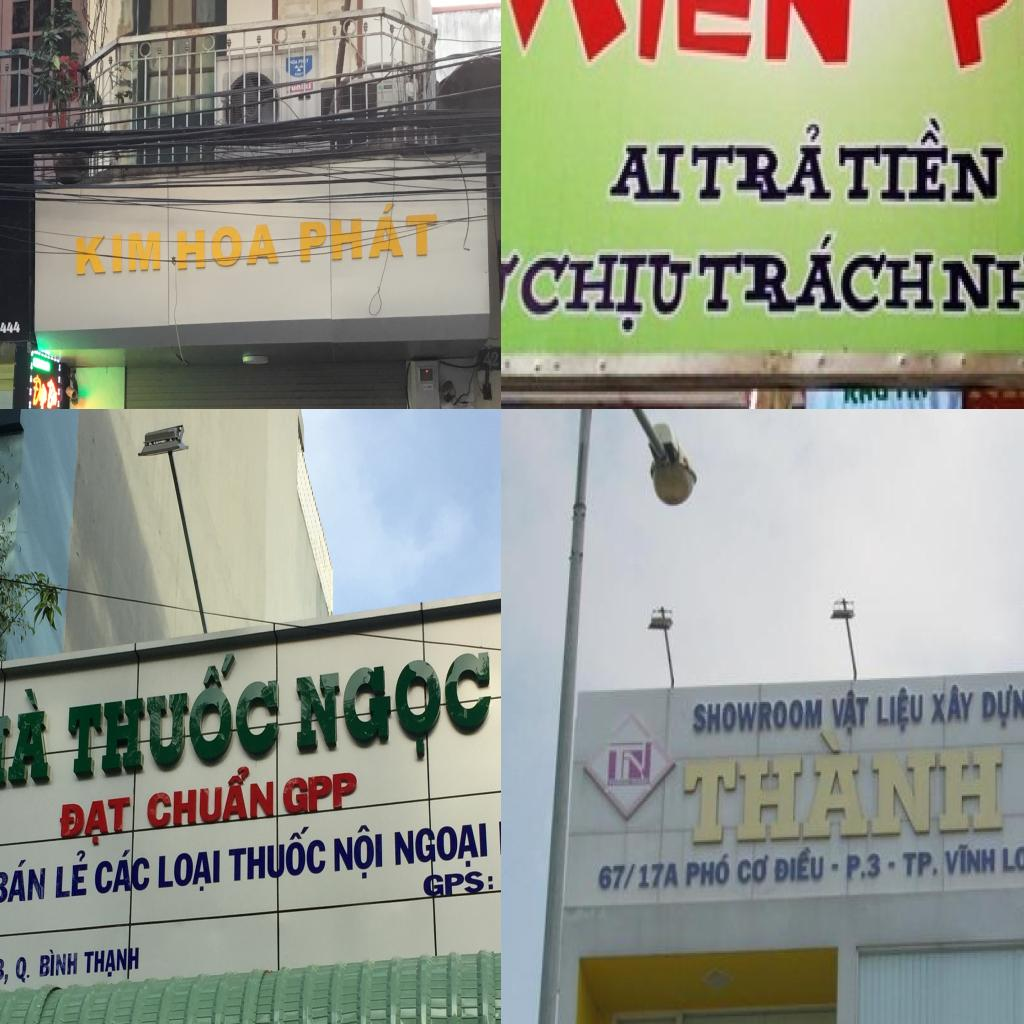text: (683, 726, 1007, 849), (66, 646, 281, 778), (501, 0, 868, 76), (294, 648, 494, 770), (696, 226, 939, 324), (511, 243, 698, 344), (835, 112, 1009, 210), (685, 118, 835, 208), (939, 234, 1024, 338), (145, 763, 275, 831), (300, 199, 439, 262), (228, 824, 329, 885), (0, 684, 52, 798), (604, 142, 688, 208), (692, 697, 825, 738), (176, 224, 280, 271), (393, 822, 490, 871), (57, 794, 133, 850), (75, 231, 162, 275), (282, 770, 361, 818), (332, 822, 384, 882), (596, 859, 680, 895), (157, 850, 221, 896), (94, 848, 152, 895), (501, 246, 527, 347), (875, 685, 926, 736), (0, 855, 47, 905), (422, 868, 496, 898), (772, 844, 826, 884), (829, 688, 872, 738), (981, 681, 1024, 731), (84, 944, 140, 982), (684, 850, 734, 892), (930, 683, 976, 728), (941, 842, 998, 878), (606, 741, 650, 786), (56, 850, 88, 898), (37, 946, 78, 978), (844, 850, 883, 883), (901, 847, 940, 880), (737, 851, 771, 888), (1001, 842, 1024, 876), (16, 954, 31, 984), (32, 372, 44, 408), (0, 321, 21, 337), (483, 352, 501, 370)
